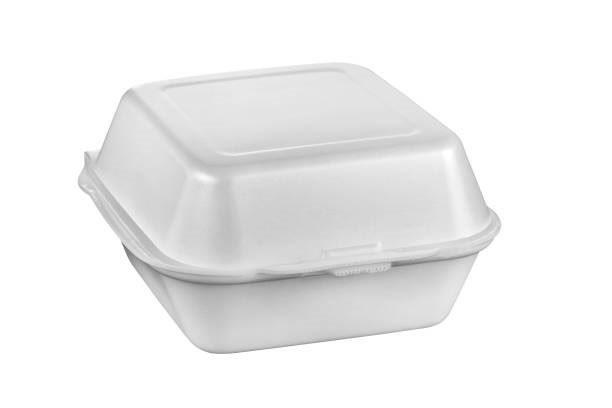sterofoam: (90, 65, 493, 350)
